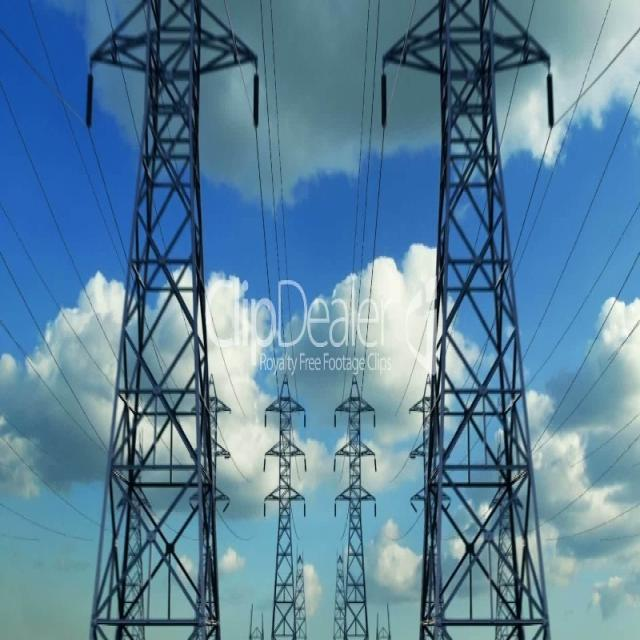non-critical vegetation: (371, 9, 577, 632), (80, 6, 254, 632), (330, 378, 380, 632), (259, 374, 304, 632)
